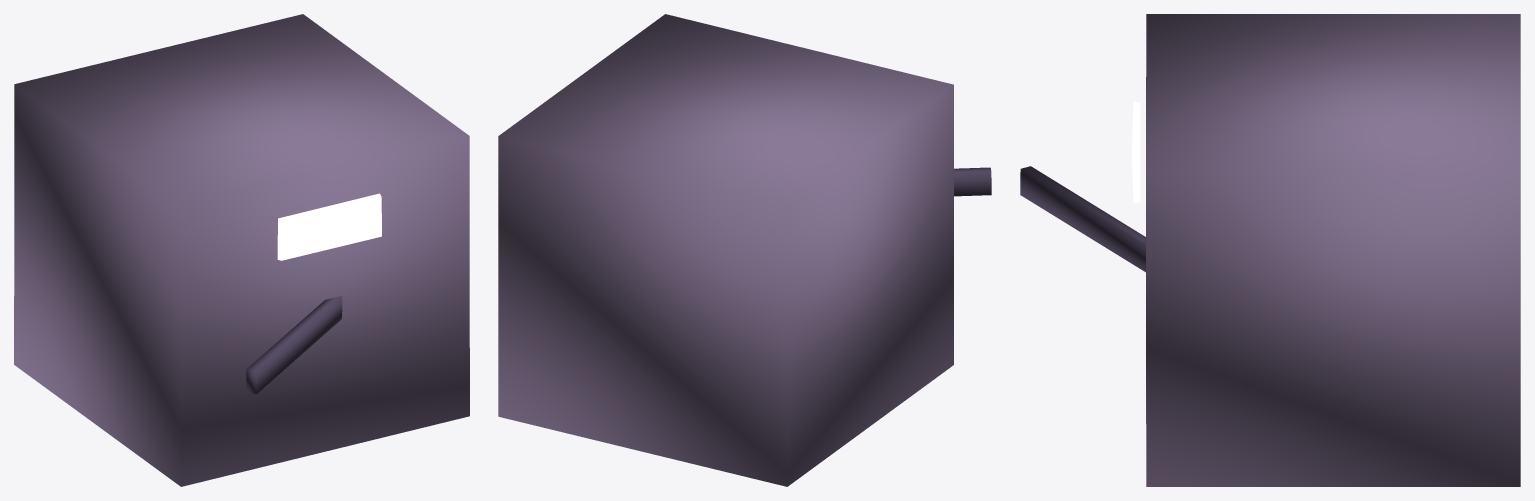
Rendered from SM_Labor_Crate_LOD3.fbx.
3 renders of one model, left to right at view 1: azimuth 30°, elevation 25°; view 2: azimuth 150°, elevation 25°; view 3: azimuth 270°, elevation 25°, orthographic. The views are drawn at different scales.
Visible parts, largest first — view 1: SM_Labor_Crate_LOD3; view 2: SM_Labor_Crate_LOD3; view 3: SM_Labor_Crate_LOD3.
Part boxes in pixels (x1=…): SM_Labor_Crate_LOD3: x1=14, y1=14, x2=469, y2=486; SM_Labor_Crate_LOD3: x1=498, y1=14, x2=991, y2=486; SM_Labor_Crate_LOD3: x1=1020, y1=14, x2=1520, y2=486.
Size of the model in its own units: 1.39 by 1.29 by 1.85.
